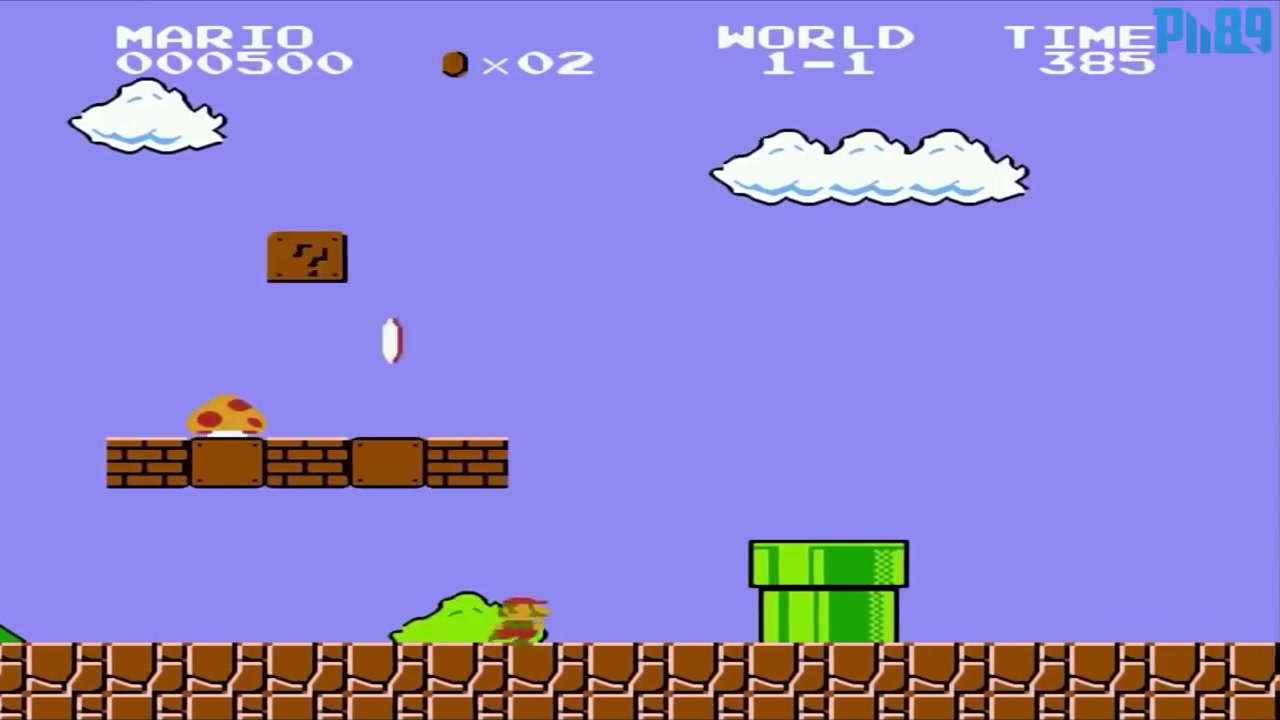mario: (483, 584, 552, 649)
